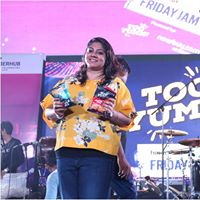tooyumm: (129, 82, 173, 126)
